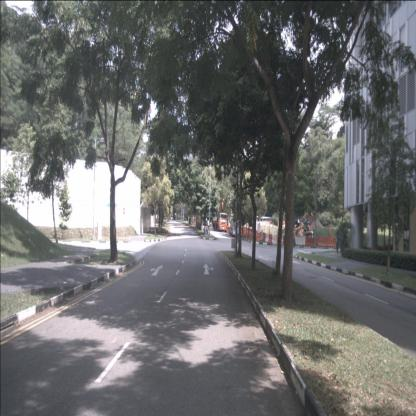human-pedestrian-adult: (339, 234, 344, 255), (335, 232, 340, 252)
movable_object-barrier: (291, 236, 306, 246), (246, 228, 255, 241), (305, 236, 316, 246), (272, 235, 283, 245), (317, 238, 328, 247), (326, 238, 336, 247), (256, 230, 261, 242), (265, 233, 269, 243), (262, 232, 266, 242), (268, 234, 272, 244)
vehicle-truck: (212, 212, 229, 232), (229, 225, 240, 237)
